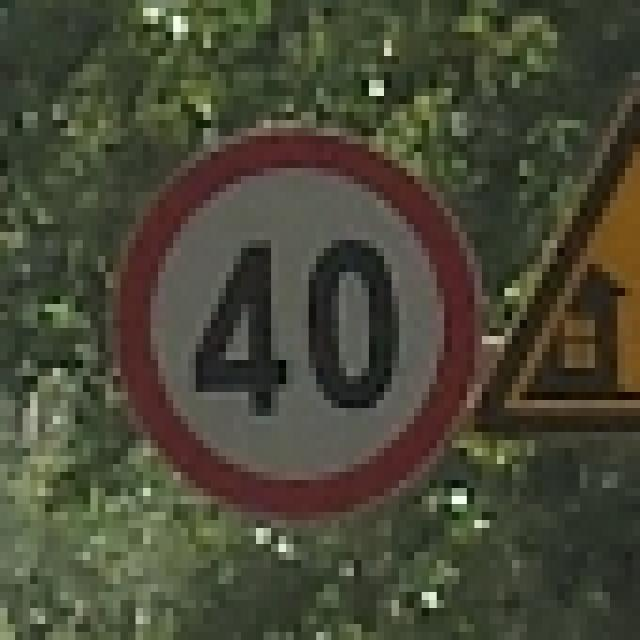Speed: (119, 120, 489, 528)
